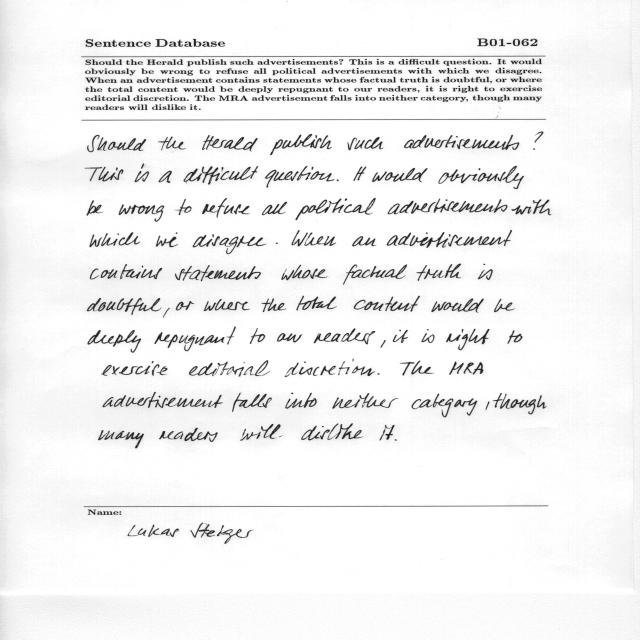word: (387, 230, 512, 248), (438, 166, 524, 189), (154, 327, 236, 351), (103, 392, 223, 408), (388, 199, 508, 214), (295, 198, 376, 220), (404, 135, 519, 150), (285, 359, 375, 377), (412, 394, 478, 418), (193, 235, 267, 255), (265, 166, 335, 187), (184, 166, 259, 185), (189, 360, 270, 377), (175, 265, 261, 281), (343, 264, 407, 285), (270, 134, 332, 155), (88, 298, 162, 315), (88, 330, 141, 353), (91, 264, 163, 280), (493, 393, 546, 414), (332, 393, 399, 409), (354, 296, 420, 312), (301, 424, 363, 441), (102, 361, 168, 376), (88, 135, 146, 152), (314, 329, 375, 345), (202, 198, 250, 218), (202, 135, 258, 152), (446, 329, 490, 350), (159, 428, 218, 442), (119, 204, 164, 222), (99, 431, 144, 449), (372, 168, 428, 182), (291, 230, 336, 247), (417, 264, 462, 281), (232, 393, 272, 412), (90, 232, 140, 247), (431, 299, 484, 313), (240, 424, 283, 441), (282, 265, 329, 280), (511, 200, 552, 216), (296, 296, 337, 310), (86, 167, 124, 182), (204, 299, 250, 311), (285, 393, 317, 409), (400, 361, 434, 376), (348, 137, 384, 150), (450, 362, 484, 375), (158, 137, 186, 151), (261, 299, 287, 312), (156, 233, 178, 248), (262, 202, 287, 215), (352, 236, 377, 247), (494, 299, 515, 312), (87, 200, 104, 216), (134, 164, 149, 182), (478, 264, 493, 280), (250, 328, 265, 344), (277, 333, 303, 342), (380, 425, 395, 440), (178, 199, 192, 215), (508, 330, 523, 344), (533, 132, 544, 150), (354, 166, 367, 181), (393, 330, 408, 343), (422, 329, 435, 343), (158, 171, 172, 183), (176, 301, 194, 310), (163, 308, 170, 318), (381, 340, 386, 348), (486, 401, 490, 410), (377, 373, 380, 375), (337, 179, 339, 181), (395, 439, 397, 441), (276, 243, 278, 244)
